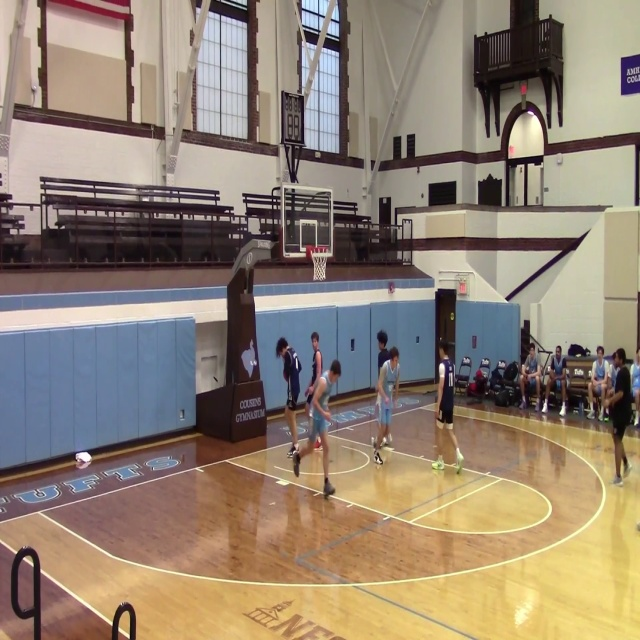Basketball: (75, 452, 92, 468), (313, 439, 322, 450)
